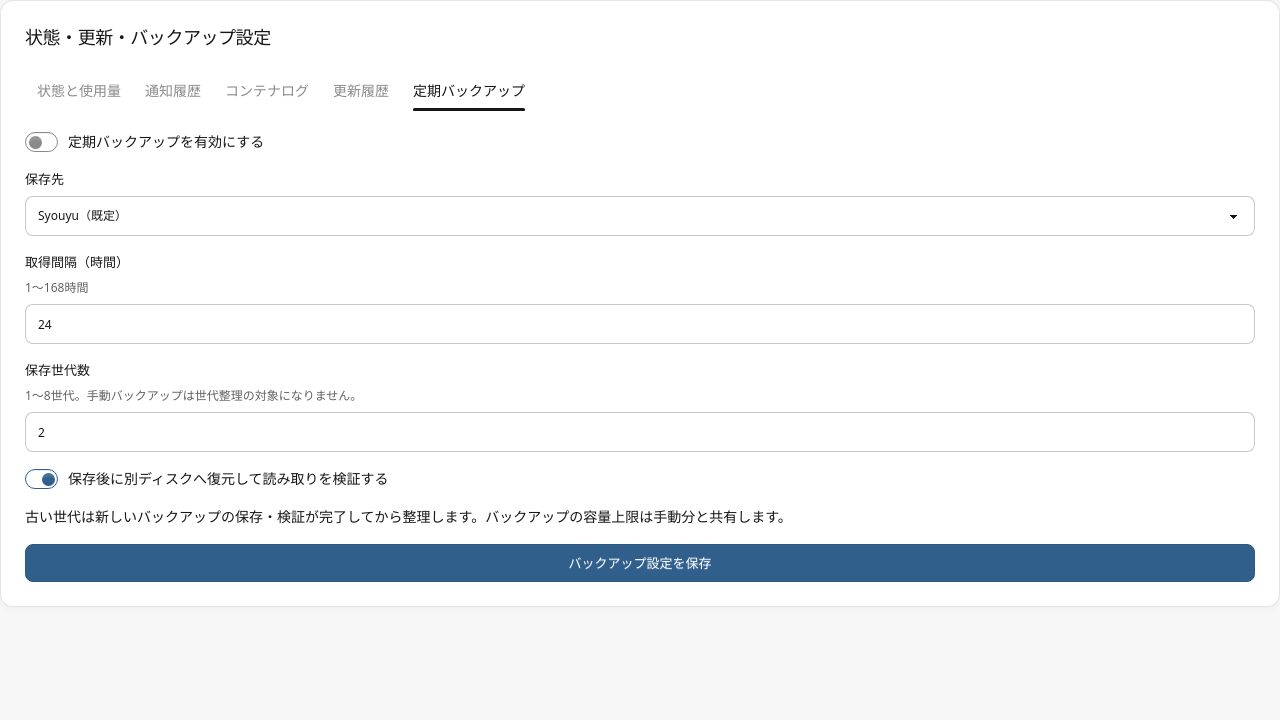
Scenario: FlashOperationsPanel › only rolls back a confirmed healthy generation and fences concurrent edits
The image size is (1280, 720).
Later steps or results of the test are not shown.
Click the tab "更新履歴". click: (361, 91)
box: [321,71,401,111]
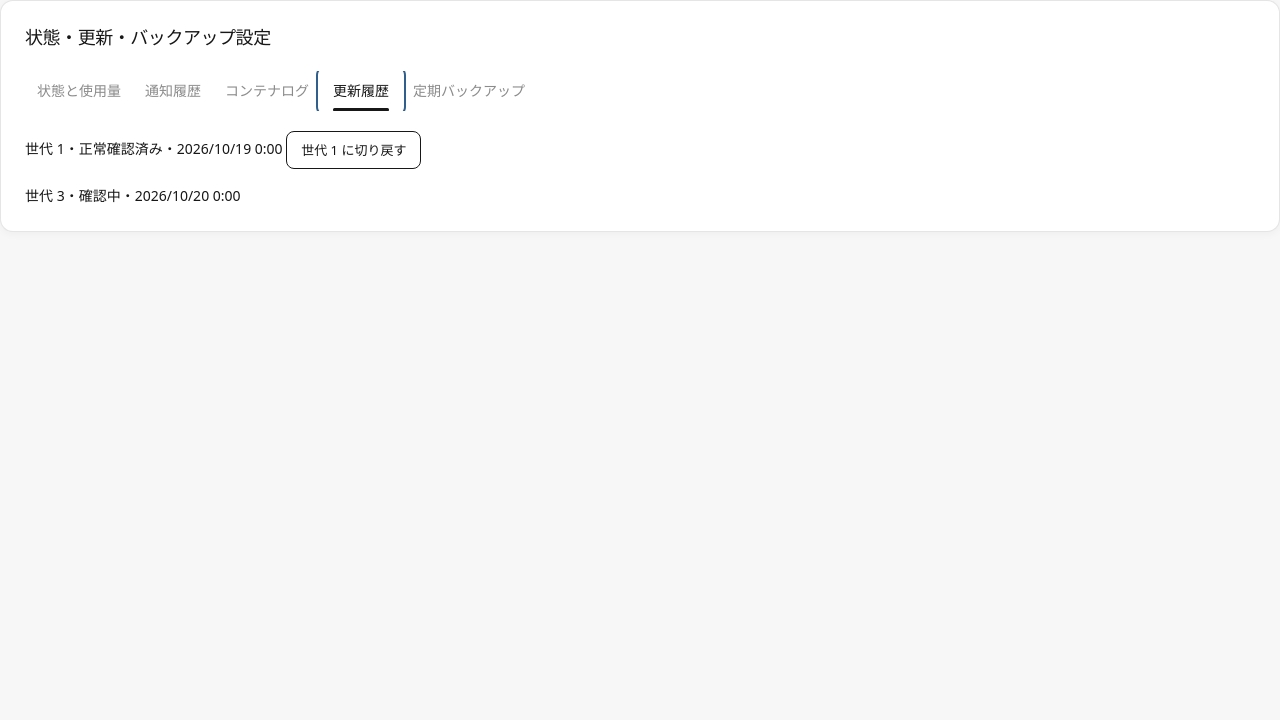
Click the button "世代 1 に切り戻す". click: (354, 150)
box: [286,131,421,169]
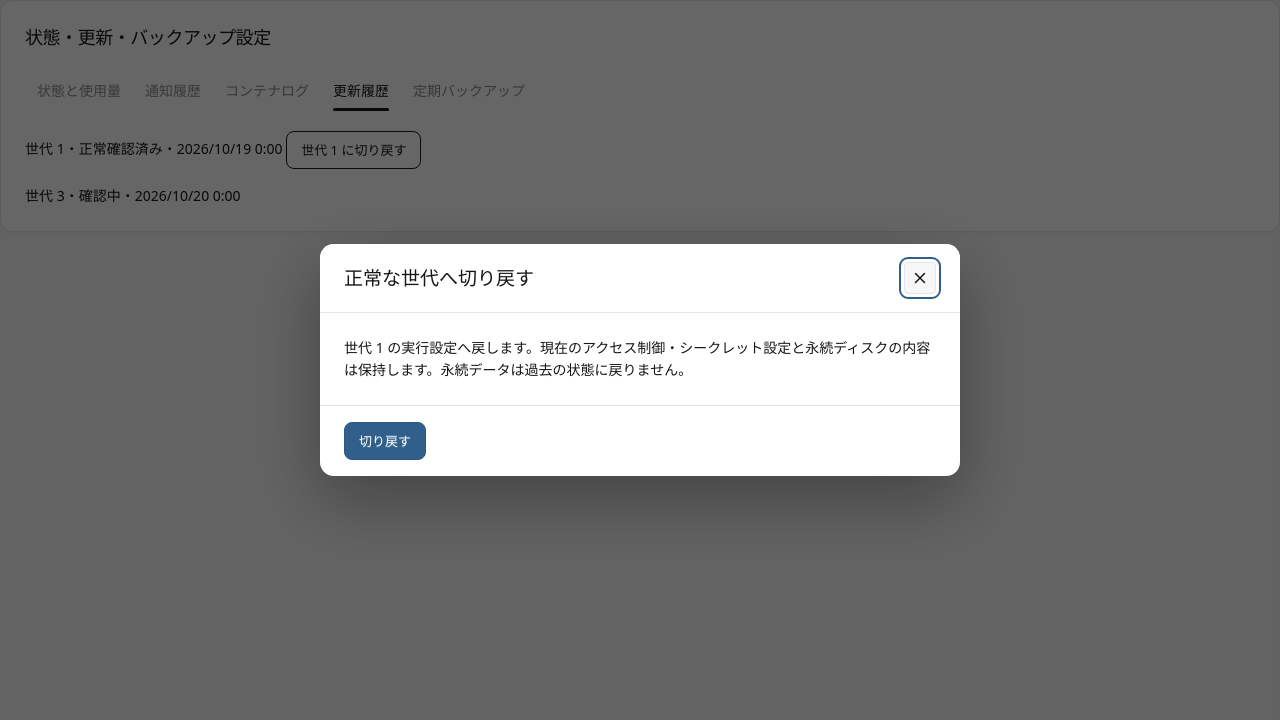
Result: the text "永続データは過去の状態に戻りません" is shown at [344,338,930,379]
